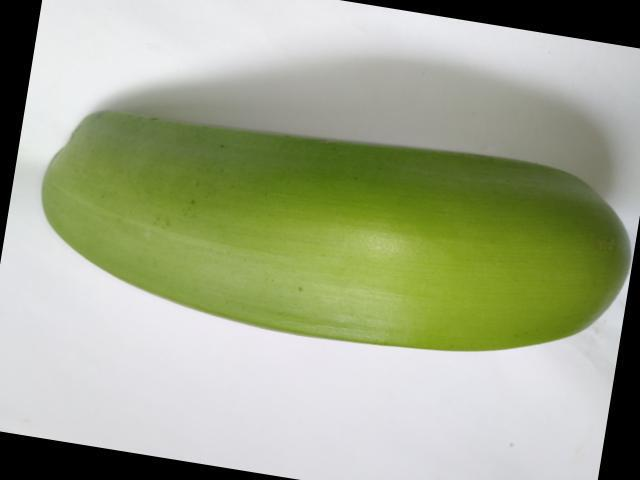freshunripe: (31, 94, 639, 362)
